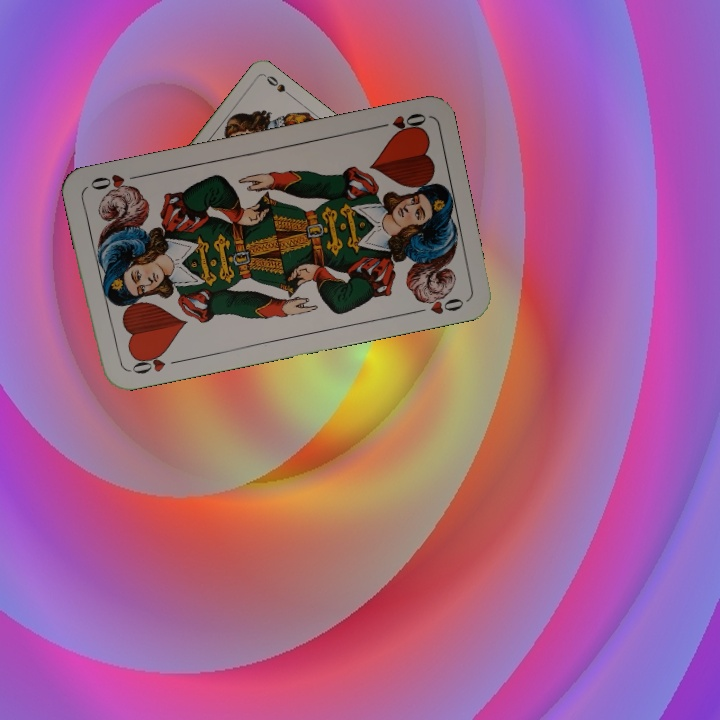HO: (124, 347, 183, 377), (370, 109, 429, 138)
